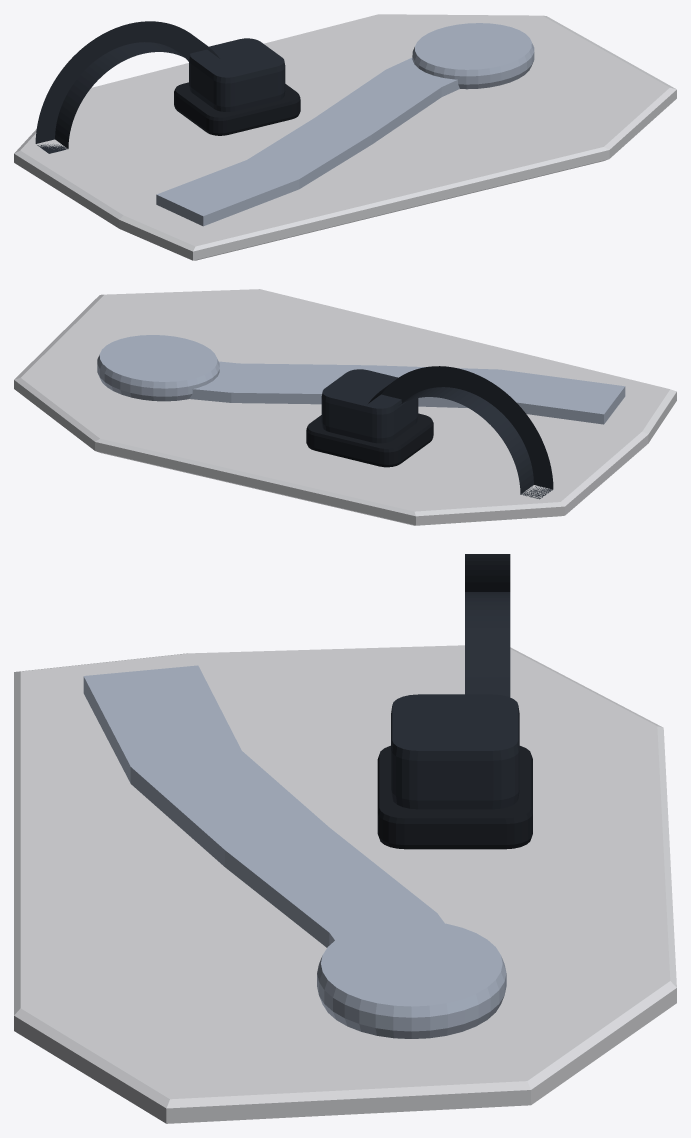
File: chapter-navigation-v2.glb
3 renders of one model, top to bottom at view 1: azimuth 30°, elevation 25°; view 2: azimuth 150°, elevation 25°; view 3: azimuth 270°, elevation 25°, orthographic. The views are drawn at different scales.
Visible parts, largest first — view 1: navigation-porcelain-ground, navigation-diagonal-path, navigation-doorway, navigation-rest-disc, navigation-step-raised, navigation-step-dark; view 2: navigation-porcelain-ground, navigation-diagonal-path, navigation-doorway, navigation-rest-disc, navigation-step-raised, navigation-step-dark; view 3: navigation-porcelain-ground, navigation-diagonal-path, navigation-rest-disc, navigation-step-raised, navigation-step-dark, navigation-doorway.
Part boxes in pixels (<box>): navigation-porcelain-ground: <box>14,14,676,260</box>; navigation-diagonal-path: <box>156,58,459,226</box>; navigation-doorway: <box>35,21,219,153</box>; navigation-rest-disc: <box>412,23,534,89</box>; navigation-step-raised: <box>189,38,285,111</box>; navigation-step-dark: <box>174,82,300,135</box>; navigation-porcelain-ground: <box>14,289,676,525</box>; navigation-diagonal-path: <box>189,361,625,424</box>; navigation-doorway: <box>368,366,553,499</box>; navigation-rest-disc: <box>97,335,219,401</box>; navigation-step-raised: <box>321,369,418,443</box>; navigation-step-dark: <box>306,413,433,467</box>; navigation-porcelain-ground: <box>14,645,676,1123</box>; navigation-diagonal-path: <box>83,665,444,947</box>; navigation-rest-disc: <box>317,920,506,1038</box>; navigation-step-raised: <box>391,694,519,809</box>; navigation-step-dark: <box>377,745,532,849</box>; navigation-doorway: <box>465,554,510,697</box>.
Size of the model in its own units: 5.8 by 1.1 by 3.5.
